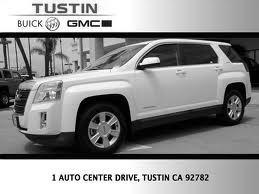car: (14, 39, 252, 154)
